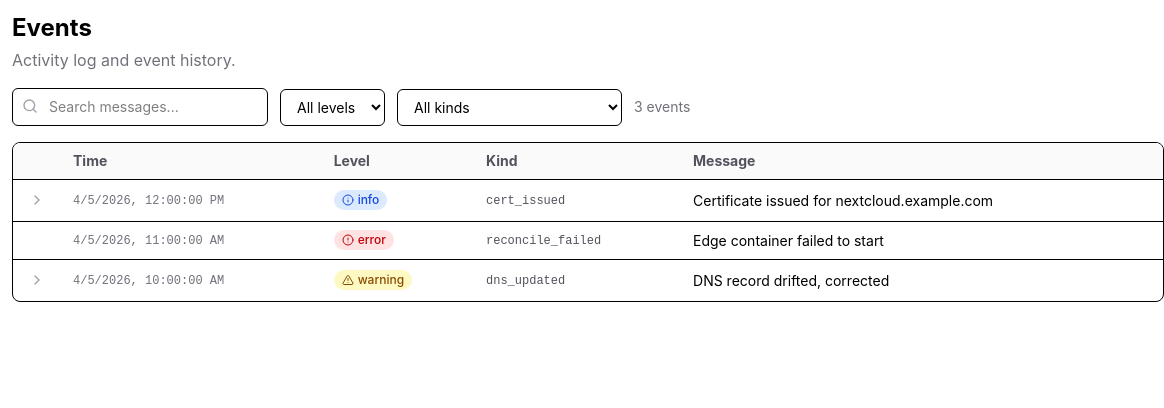
Events page › exposes event details through an accessible expand button
This screenshot has width=1164, height=408.
Expected: the text "Certificate issued for nextcloud.example.com" is shown, [681,180,1163,222]
Click the button named "Expand details for Certificate issued for nextcloud.example.com": (37, 200) [25,188,49,212]
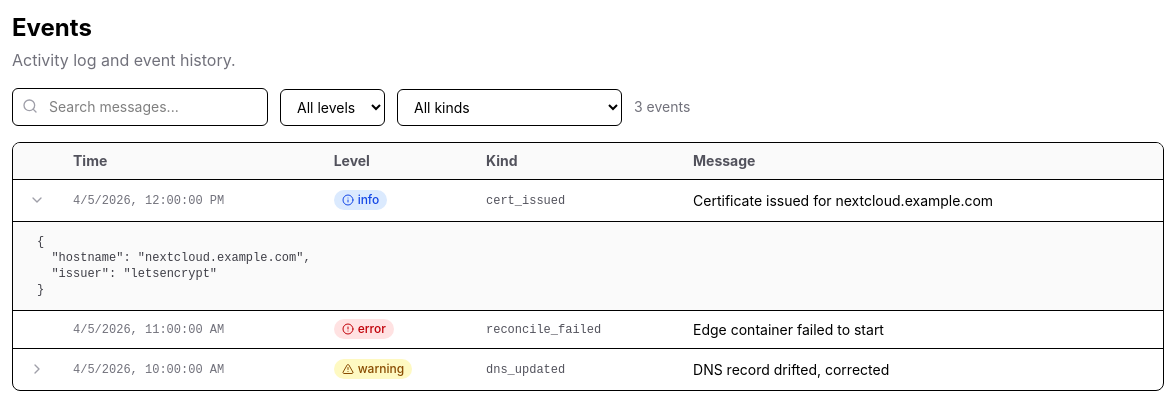
Expected: the button named "Collapse details for Certificate issued for nextcloud.example.com" is expanded, [25,188,49,212]
Expected: the text "\"hostname\"" is shown, [37,235,311,297]
